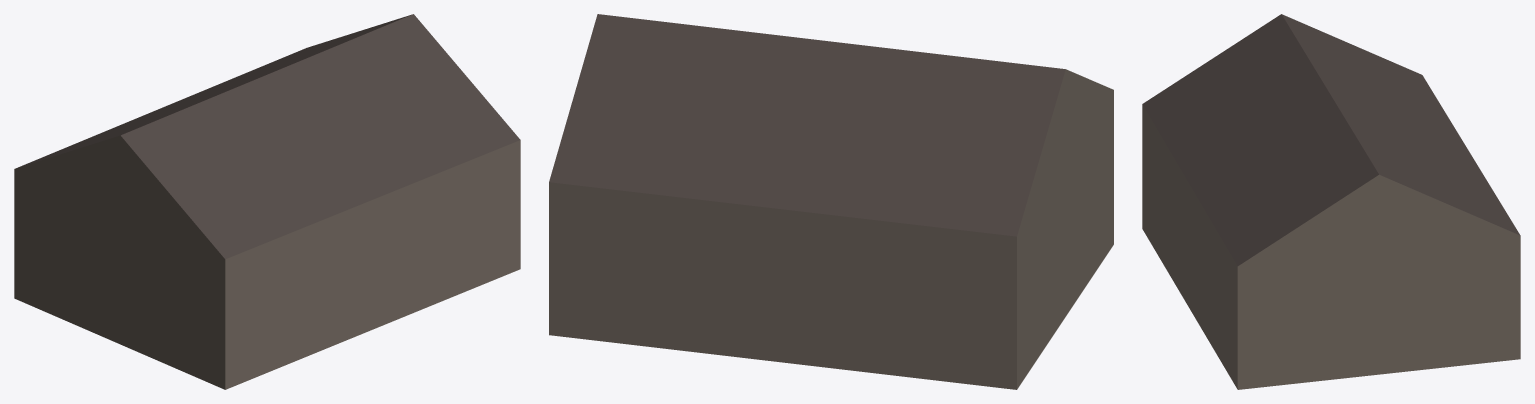
The picture shows the model from 3 angles, left to right: view 1: azimuth 30°, elevation 25°; view 2: azimuth 150°, elevation 25°; view 3: azimuth 270°, elevation 25°; orthographic projection. The views are drawn at different scales.
Parts seen in each view (by area): view 1: HP-w1202498296; view 2: HP-w1202498296; view 3: HP-w1202498296.
Boxes of the visible parts, <box> form: HP-w1202498296: <box>14,14,520,389</box>; HP-w1202498296: <box>549,14,1113,389</box>; HP-w1202498296: <box>1142,14,1520,389</box>.
Size of the model in its own units: 19.91 by 9.71 by 16.65.
